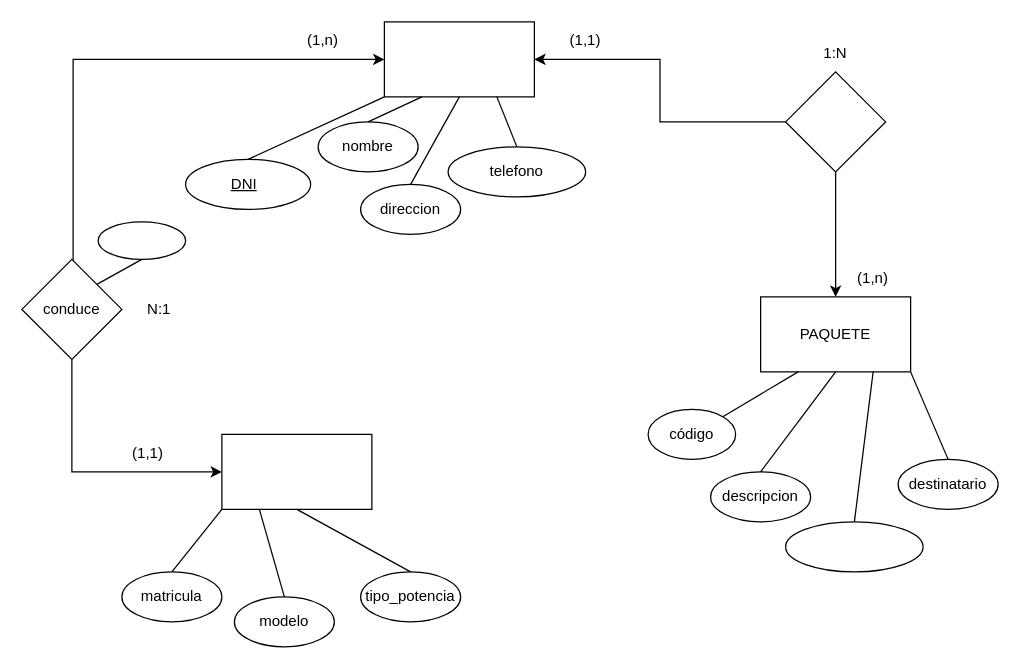
Image size: 1020x669. Some labels were removed from this diagram. Each missing label, with the box of its shape:
CAMION: (221, 433, 372, 509)
CAMIONERO: (383, 21, 534, 97)
dir_destinatario: (784, 521, 923, 572)
distribuye: (784, 71, 886, 172)
fecha: (97, 221, 186, 259)
